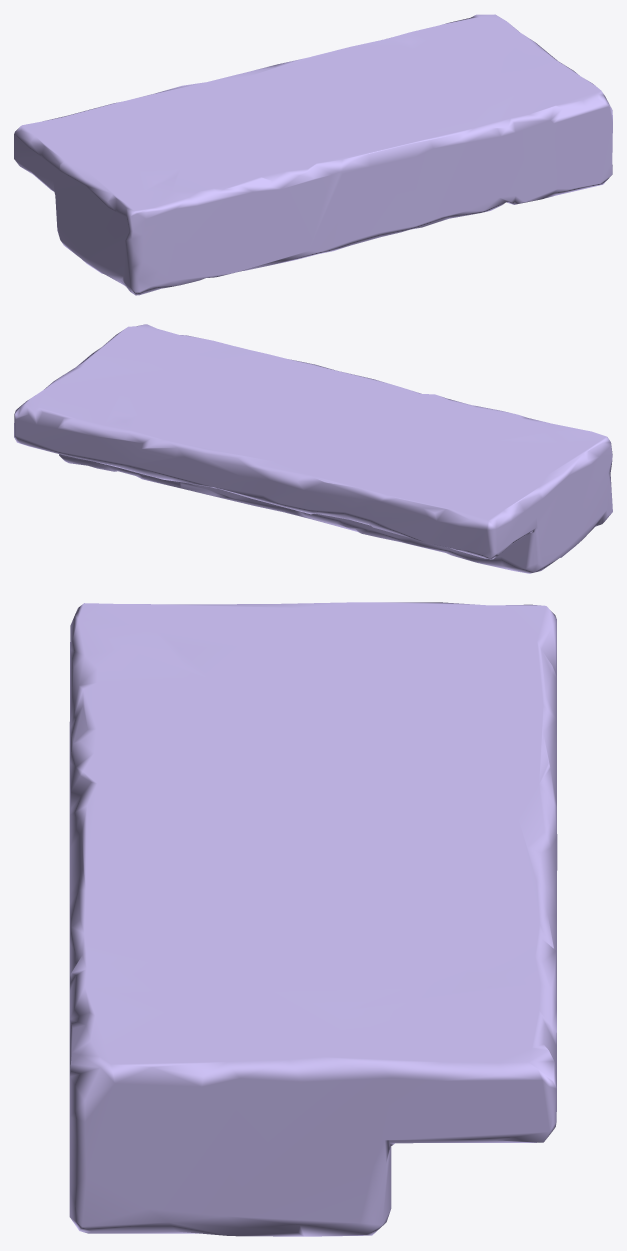
File: stone_tiles_l_ver2_LOD2.fbx
3 renders of one model, top to bottom at view 1: azimuth 30°, elevation 25°; view 2: azimuth 150°, elevation 25°; view 3: azimuth 270°, elevation 25°, orthographic. The views are drawn at different scales.
Parts seen in each view (by area): view 1: Cube_009_LOD2; view 2: Cube_009_LOD2; view 3: Cube_009_LOD2.
Part boxes in pixels (x1=…): Cube_009_LOD2: x1=14, y1=14, x2=612, y2=295; Cube_009_LOD2: x1=14, y1=324, x2=612, y2=573; Cube_009_LOD2: x1=69, y1=602, x2=557, y2=1236.
Size of the model in its own units: 162 by 28.09 by 70.99.
